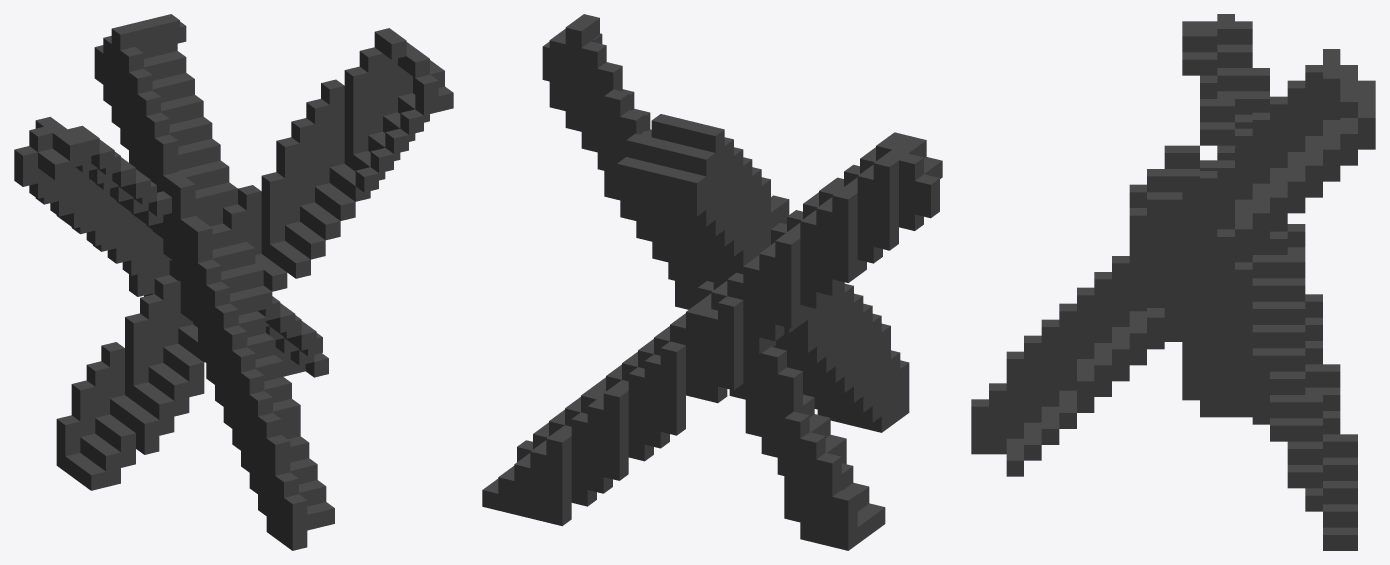
Rendered from AntiTank.obj.
3 renders of one model, left to right at view 1: azimuth 30°, elevation 25°; view 2: azimuth 150°, elevation 25°; view 3: azimuth 270°, elevation 25°, orthographic. The views are drawn at different scales.
Size of the model in its own units: 2.6 by 2.5 by 2.3.
1 material, 1 textured.
